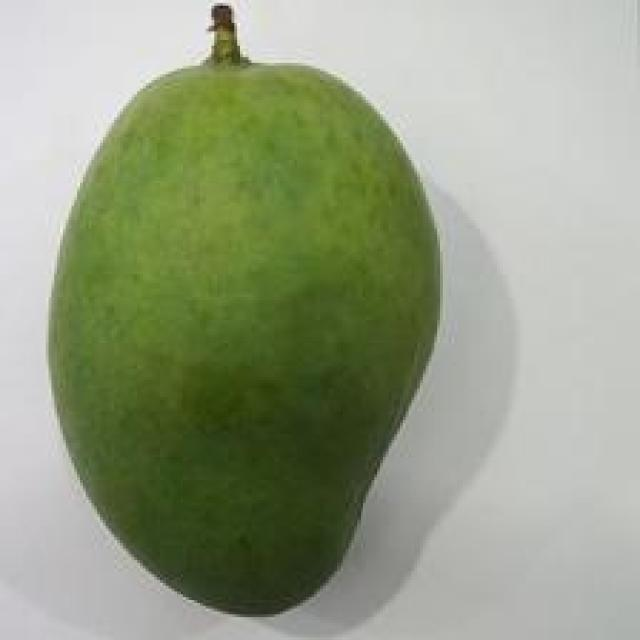Good_Mango: (46, 6, 446, 620)
